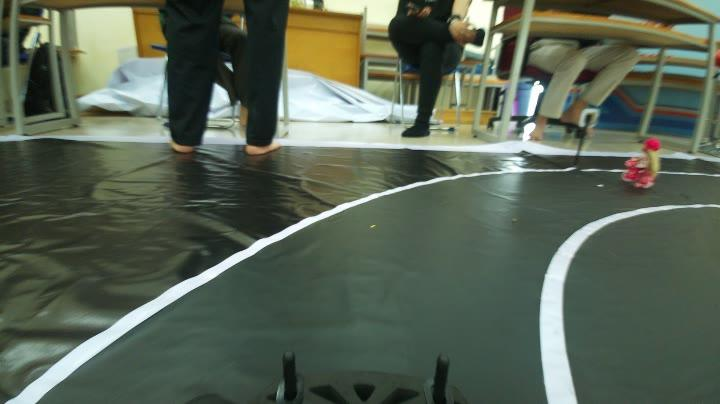pedestrian: (622, 132, 668, 188)
